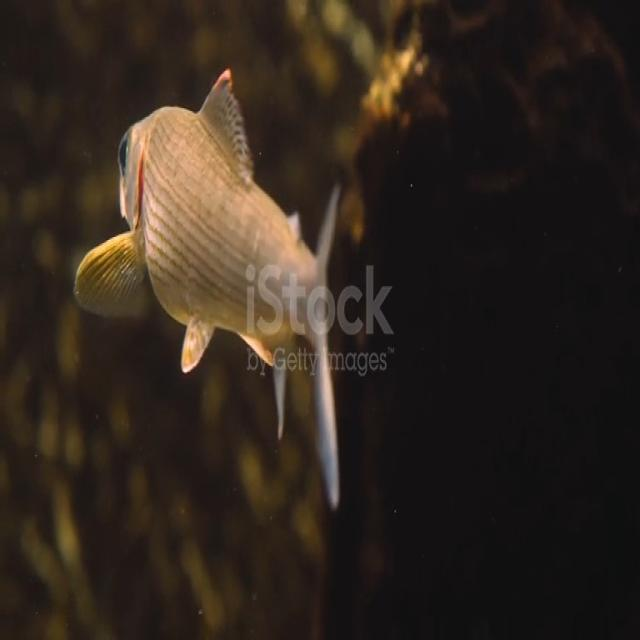fish: (72, 70, 344, 512)
